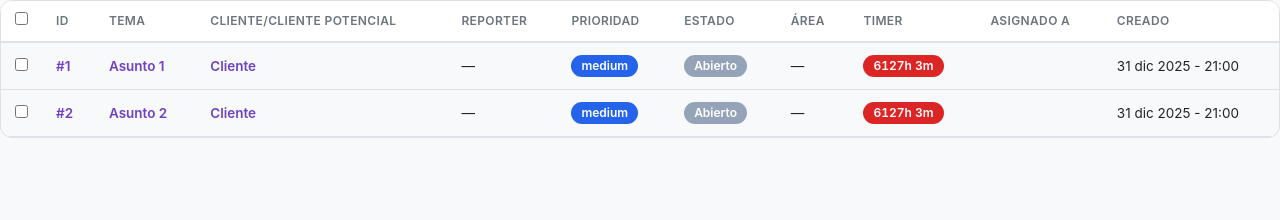
TicketsTableView — permission gating › tickets.close alone shows Cerrar (even without write)
Click the checkbox named "Seleccionar todos": x=22, y=18 [15,12,28,25]
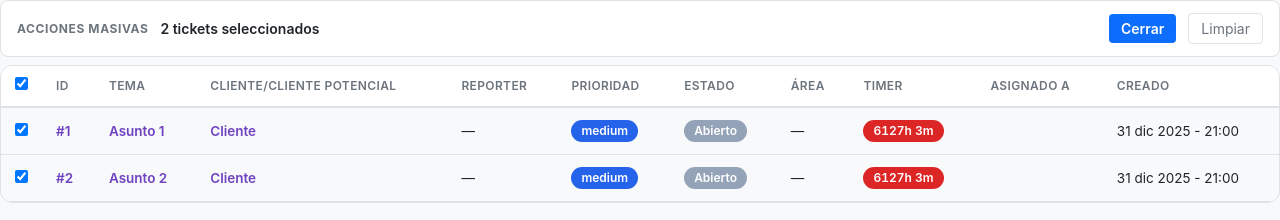
Expected: the button "Cerrar" is shown, [1109,14,1176,43]
